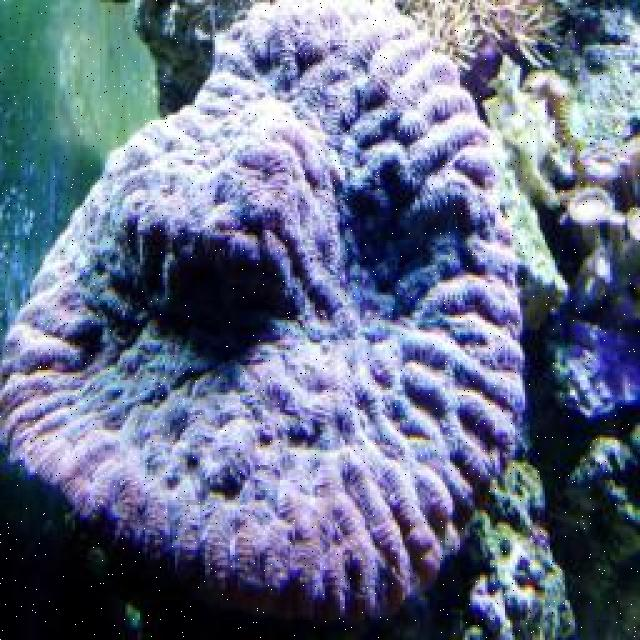reefs: (0, 0, 528, 616)
